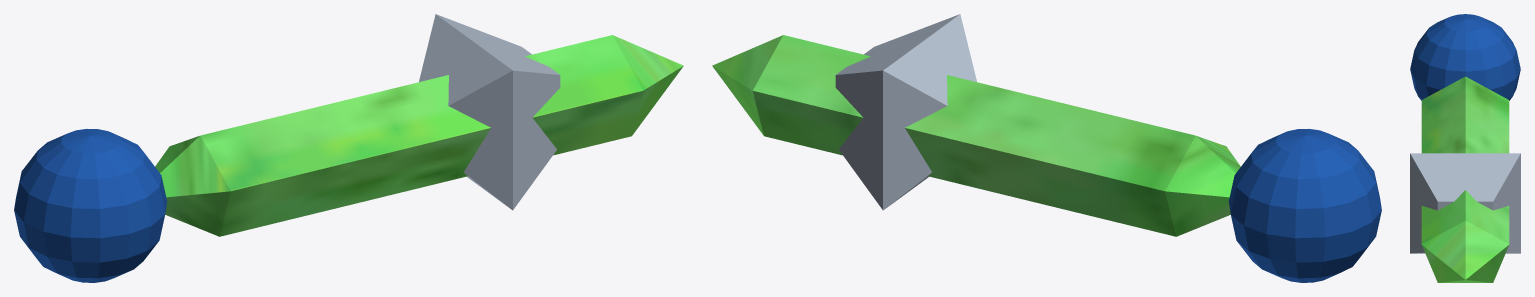
File: Fuel Rod Rod.obj
3 views of the same model, side by side, from view 1: azimuth 30°, elevation 25°; view 2: azimuth 150°, elevation 25°; view 3: azimuth 270°, elevation 25° (orthographic). The views are drawn at different scales.
Visible parts, largest first — view 1: __unnamed, _contrail, frame_fuel_rod; view 2: __unnamed, _contrail, frame_fuel_rod; view 3: __unnamed, frame_fuel_rod, _contrail.
Boxes of the visible parts, x1=… form: __unnamed: x1=155, y1=35, x2=683, y2=236; _contrail: x1=14, y1=129, x2=167, y2=282; frame_fuel_rod: x1=419, y1=14, x2=560, y2=210; __unnamed: x1=712, y1=35, x2=1240, y2=236; _contrail: x1=1228, y1=129, x2=1381, y2=282; frame_fuel_rod: x1=835, y1=14, x2=976, y2=210; __unnamed: x1=1421, y1=76, x2=1509, y2=282; frame_fuel_rod: x1=1410, y1=153, x2=1520, y2=253; _contrail: x1=1410, y1=14, x2=1520, y2=100.
Bounding box in the file's own units: 9.87 × 2 × 2.
